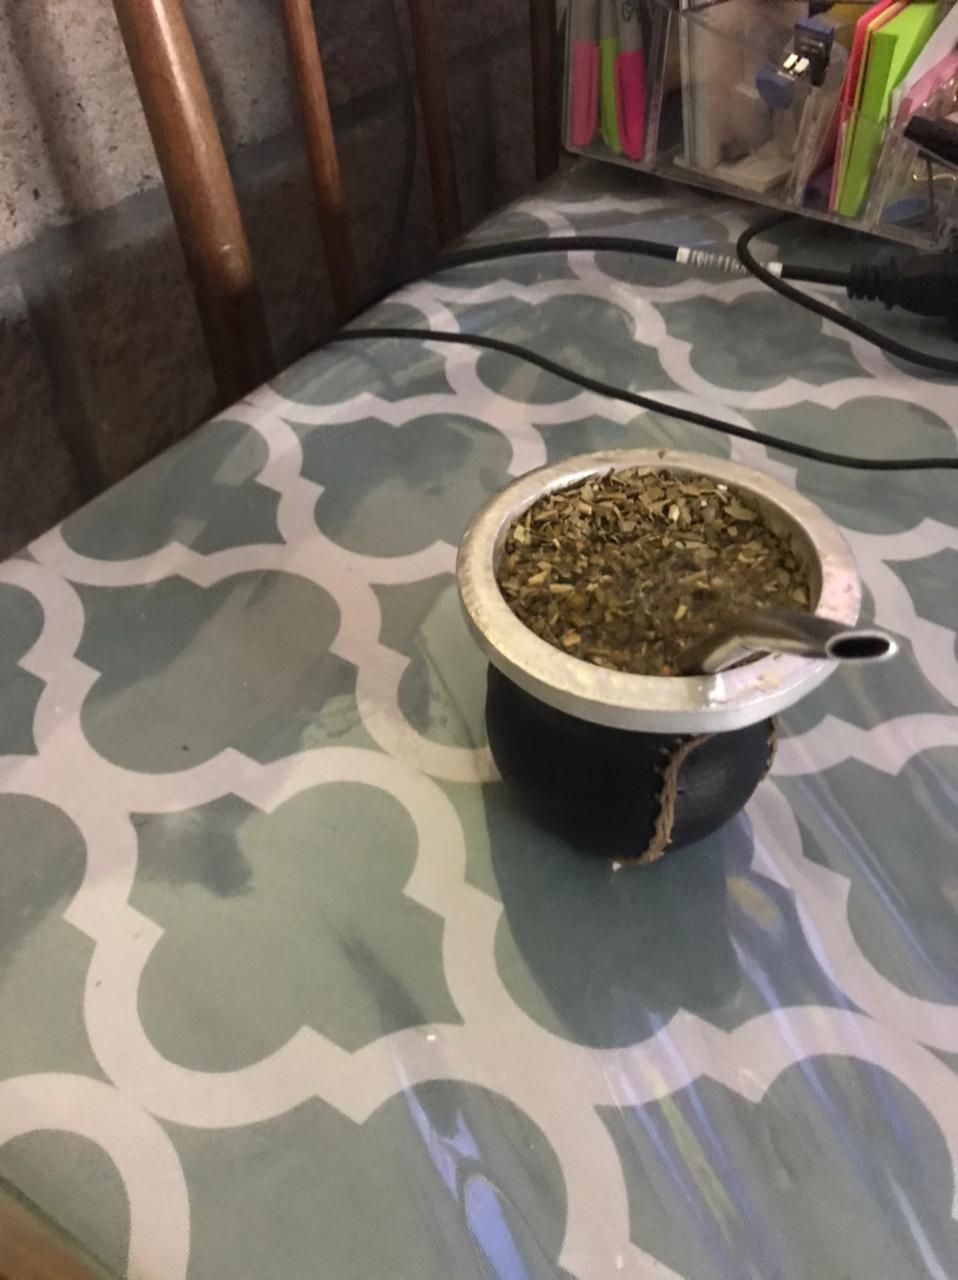mate: (443, 435, 905, 897)
